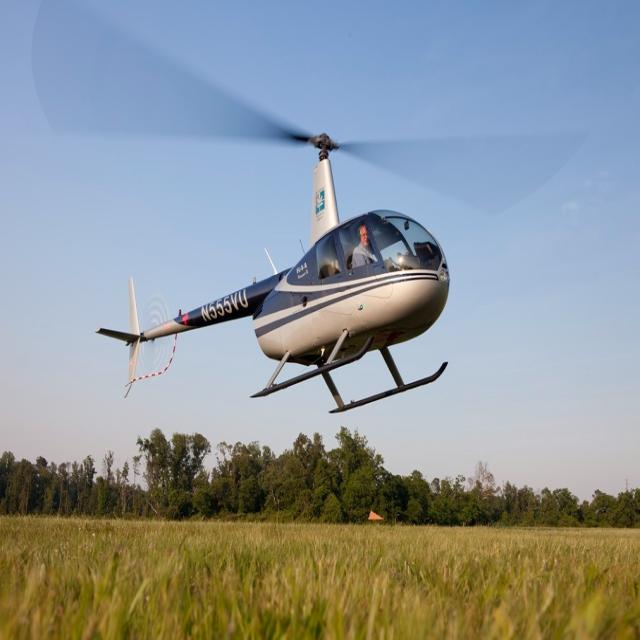CIV_HELO: (95, 129, 453, 417)
